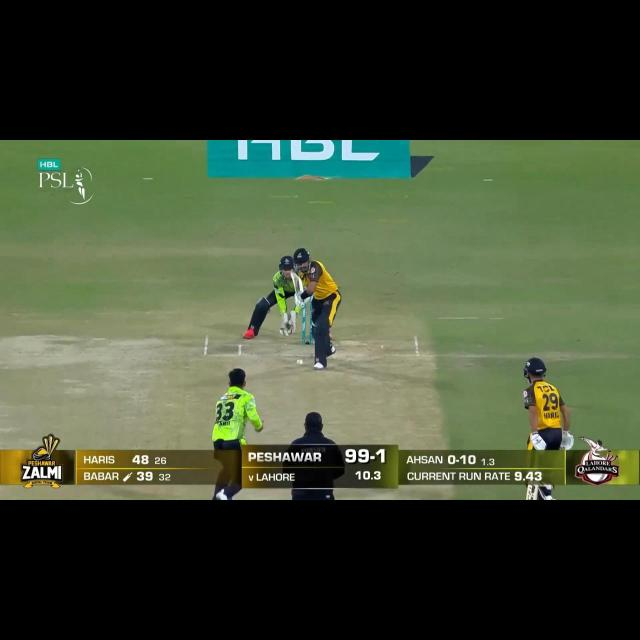bat: (290, 270, 304, 295), (525, 484, 539, 504)
toe: (523, 490, 539, 500), (290, 270, 300, 280)
